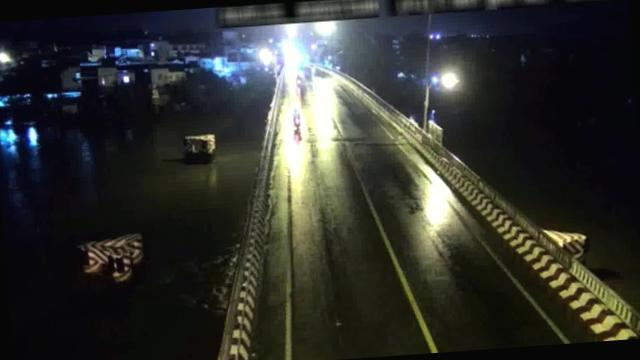Bike: (288, 107, 304, 130)
